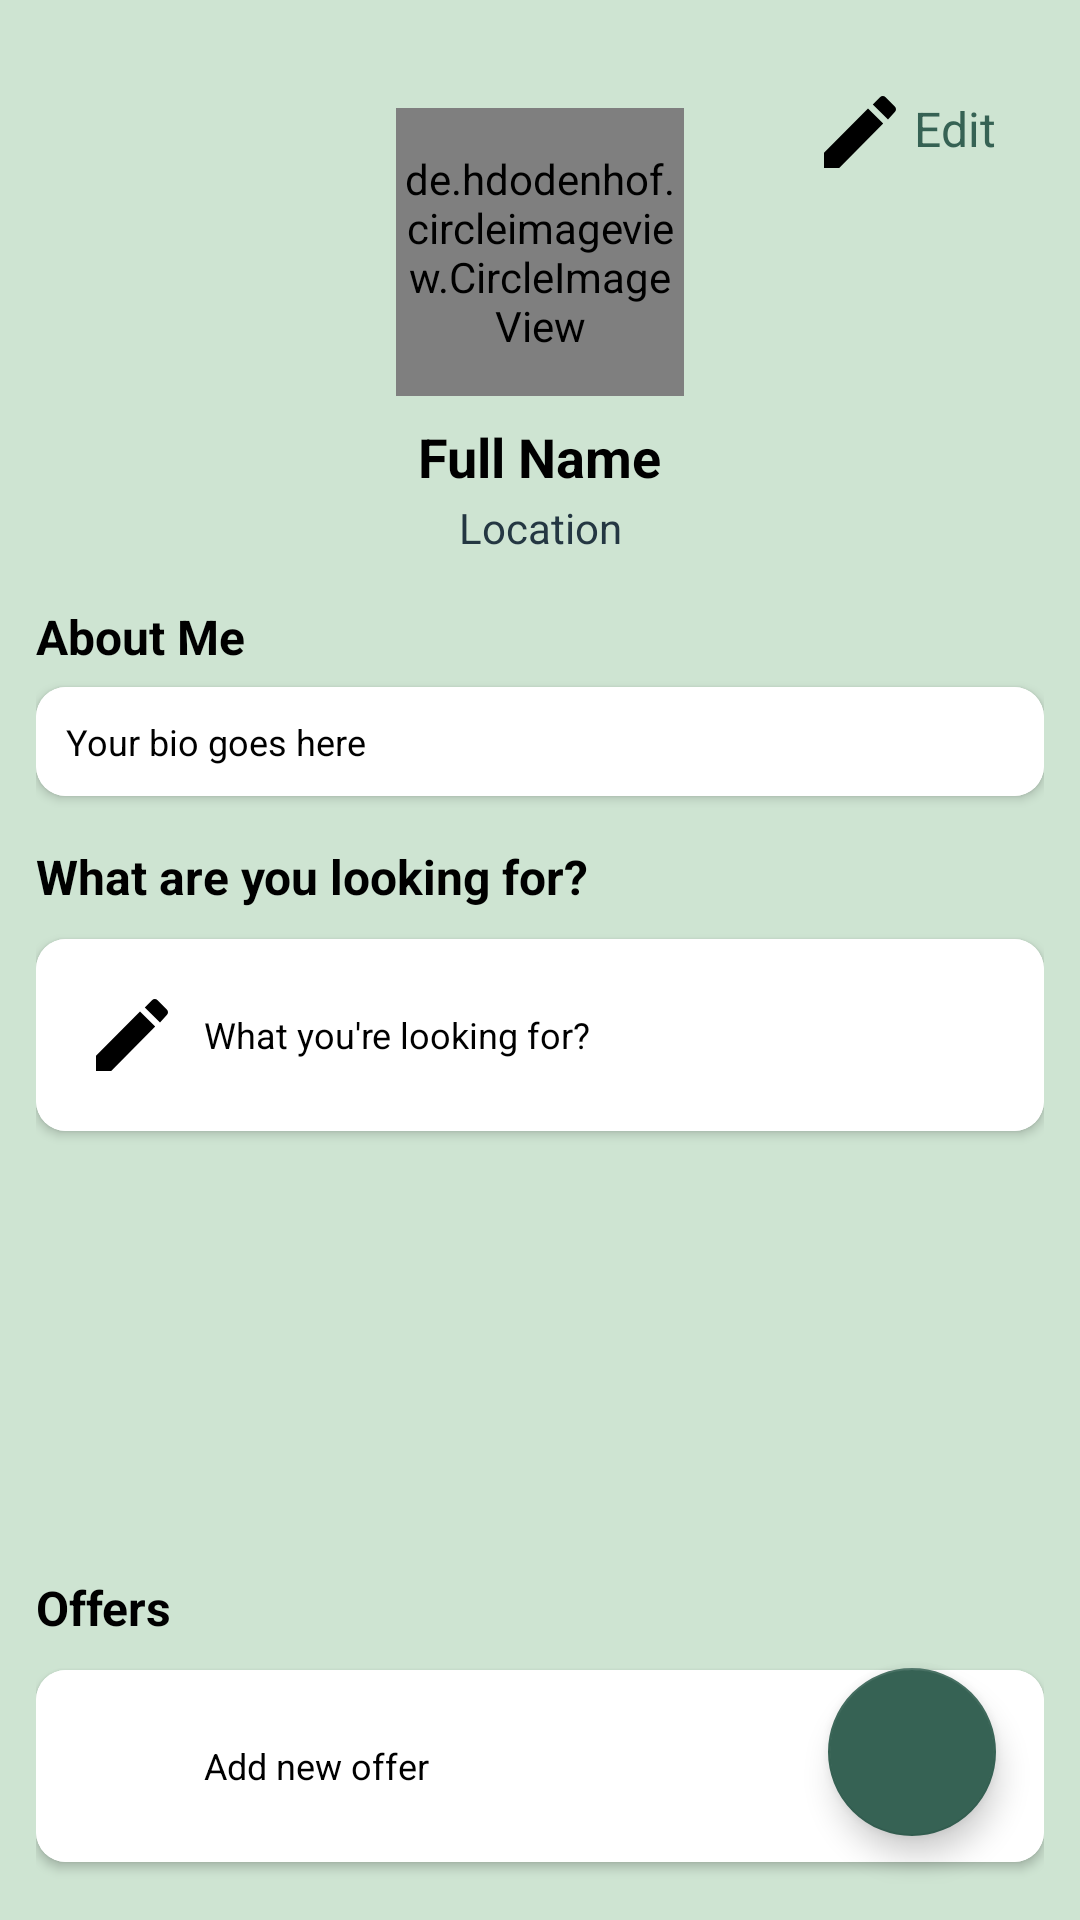

Icons on this 1080px x 1920px Android screen, each with the point to tap as point (x, y):
Edit looking for: point (132, 1035)
